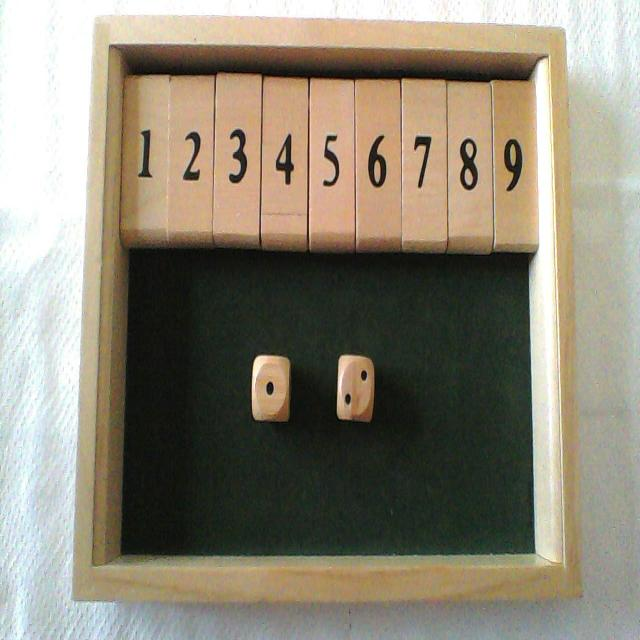1: (247, 346, 294, 432)
2: (334, 349, 376, 430)
C1: (120, 14, 166, 248)
C2: (168, 15, 214, 248)
C3: (216, 16, 262, 249)
C4: (262, 18, 308, 251)
C5: (312, 19, 354, 251)
C6: (357, 21, 400, 252)
C7: (404, 22, 446, 254)
C8: (449, 21, 490, 253)
C9: (494, 25, 539, 253)
